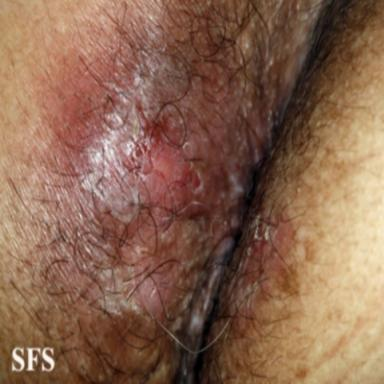Hailey-Hailey-Disease: (43, 1, 329, 381)
